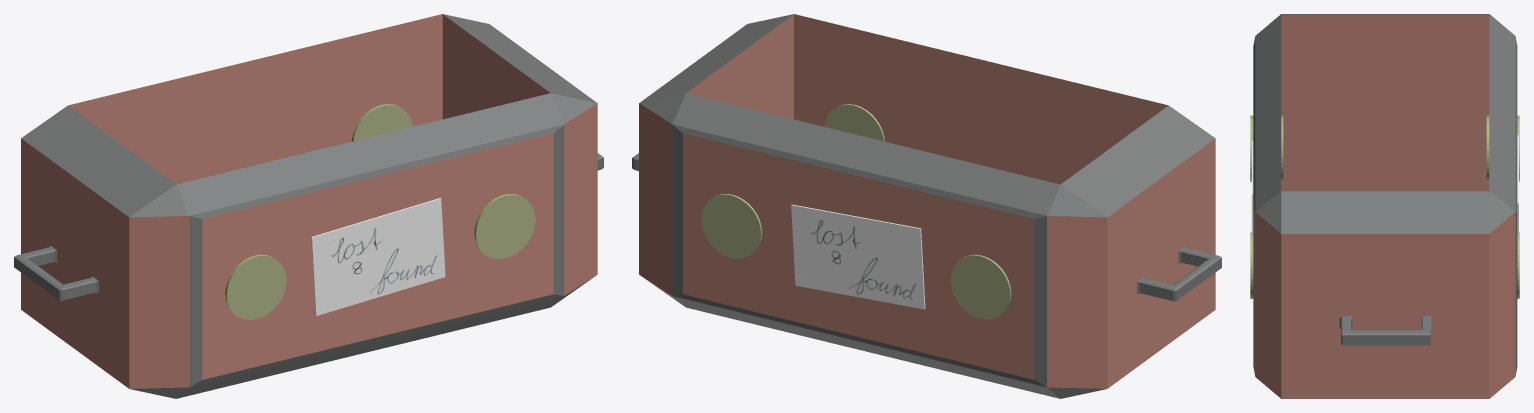
The model's file is LostAndFoundBox.fbx.
3 renders of one model, left to right at view 1: azimuth 30°, elevation 25°; view 2: azimuth 150°, elevation 25°; view 3: azimuth 270°, elevation 25°, orthographic. The views are drawn at different scales.
Parts seen in each view (by area): view 1: lostfoundbox; view 2: lostfoundbox; view 3: lostfoundbox.
Part boxes in pixels (left/top/right/bottom): lostfoundbox: left=14, top=14, right=603, bottom=398; lostfoundbox: left=632, top=14, right=1221, bottom=398; lostfoundbox: left=1250, top=14, right=1519, bottom=398.
Size of the model in its own units: 186 by 70 by 82.84.
